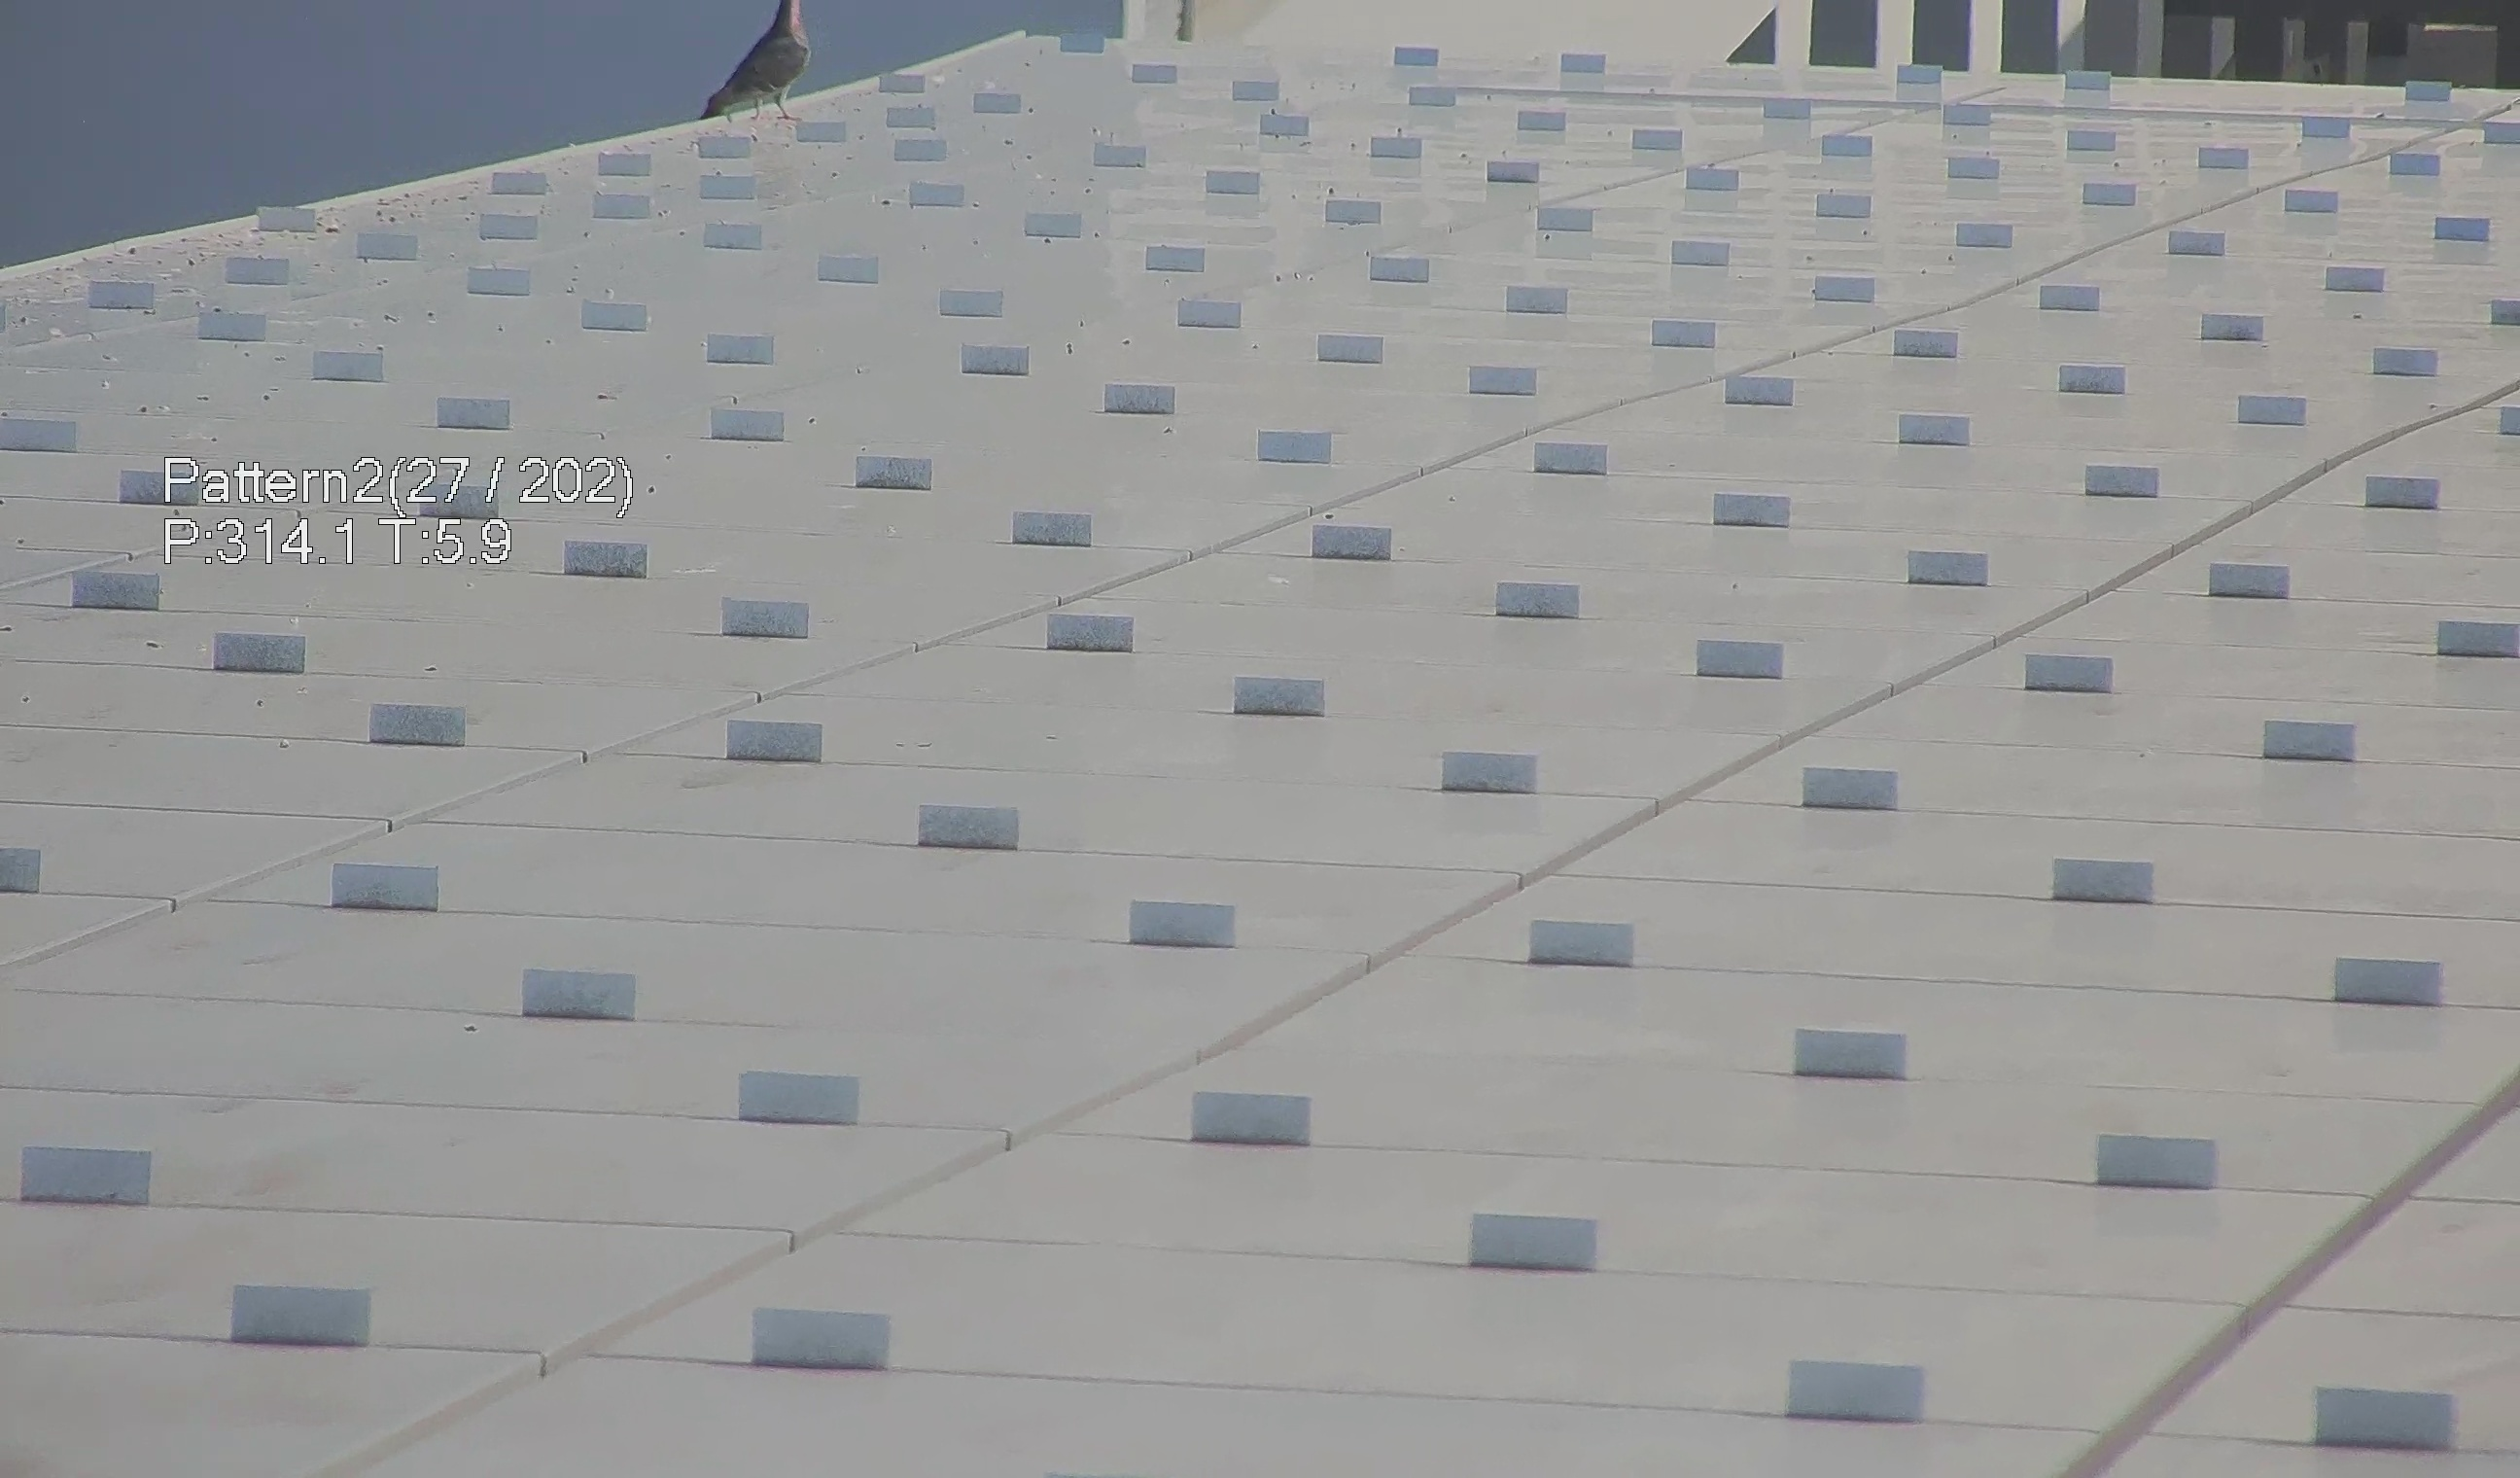Pigeon: (684, 0, 812, 132)
